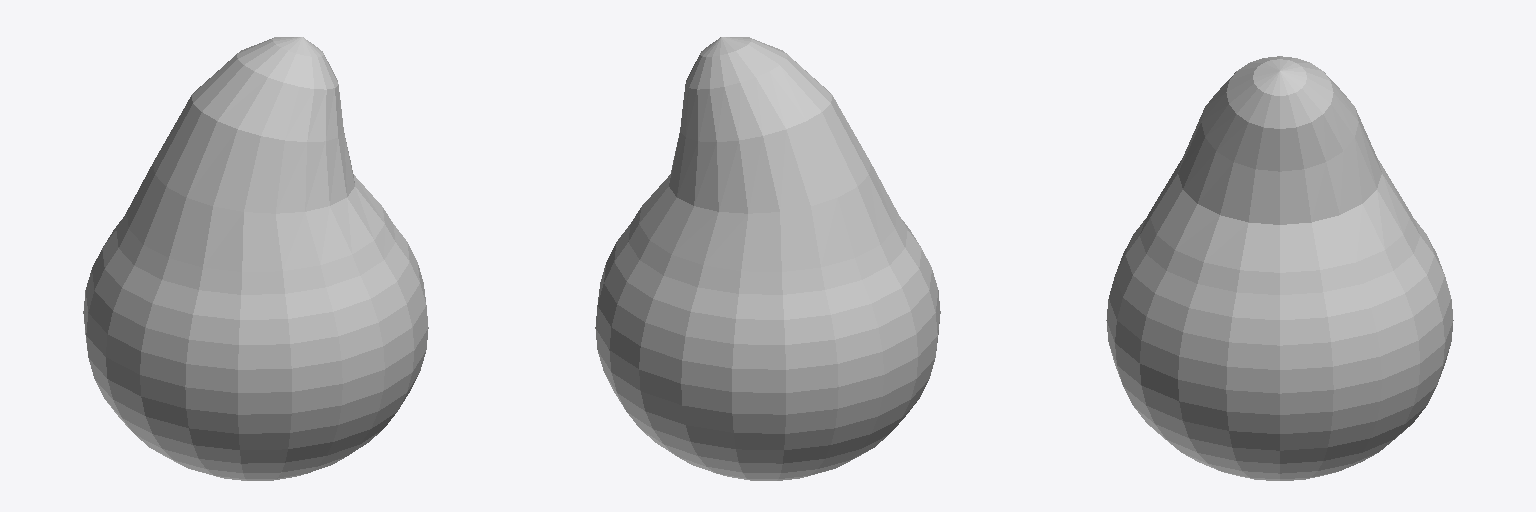
Rendered from pear.obj.
3 views of the same model, side by side, from view 1: azimuth 30°, elevation 25°; view 2: azimuth 150°, elevation 25°; view 3: azimuth 270°, elevation 25° (orthographic).
Visible parts, largest first — view 1: pear; view 2: pear; view 3: pear.
Part boxes in pixels (x1,y1,x2,y2): pear: (83,37,428,480); pear: (595,37,940,480); pear: (1106,56,1453,480).
Size of the model in its own units: 2 by 2.64 by 2.